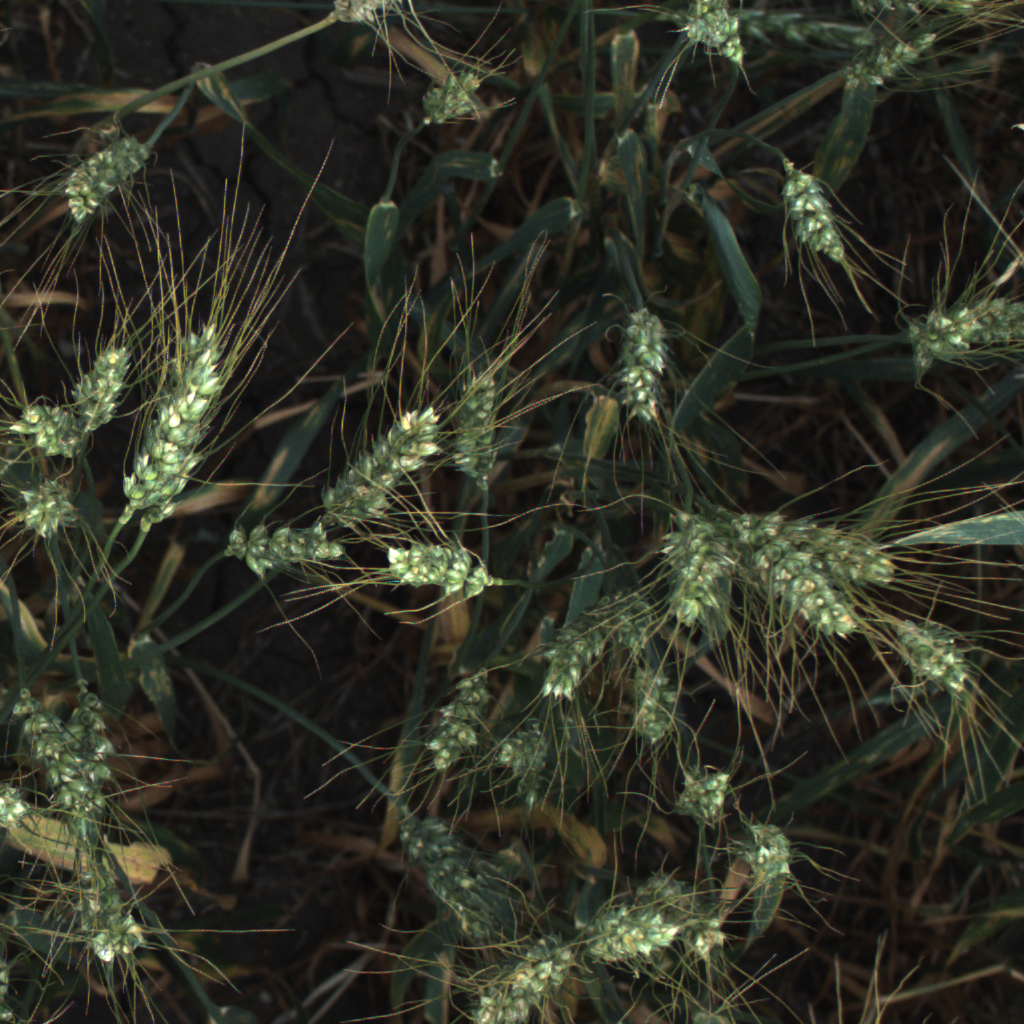wheat_head: (104, 316, 241, 528), (303, 394, 463, 540), (724, 504, 865, 648), (525, 569, 657, 712), (637, 492, 746, 645), (394, 799, 512, 938), (592, 282, 692, 443), (43, 114, 167, 234), (742, 505, 907, 595), (10, 679, 100, 842), (869, 586, 986, 711), (565, 882, 709, 982), (437, 343, 524, 503), (410, 660, 524, 780), (764, 144, 860, 284), (454, 916, 574, 1024), (53, 316, 136, 460), (53, 862, 153, 975), (370, 525, 500, 608), (481, 677, 565, 796), (0, 384, 96, 487), (825, 30, 960, 103), (610, 652, 706, 753), (65, 674, 123, 839), (0, 458, 96, 557), (218, 515, 352, 584), (721, 812, 813, 899), (666, 0, 763, 76), (664, 759, 746, 840), (427, 55, 505, 121), (939, 292, 1019, 348), (896, 305, 957, 378), (316, 0, 426, 36), (0, 772, 43, 840), (0, 922, 28, 1024)
